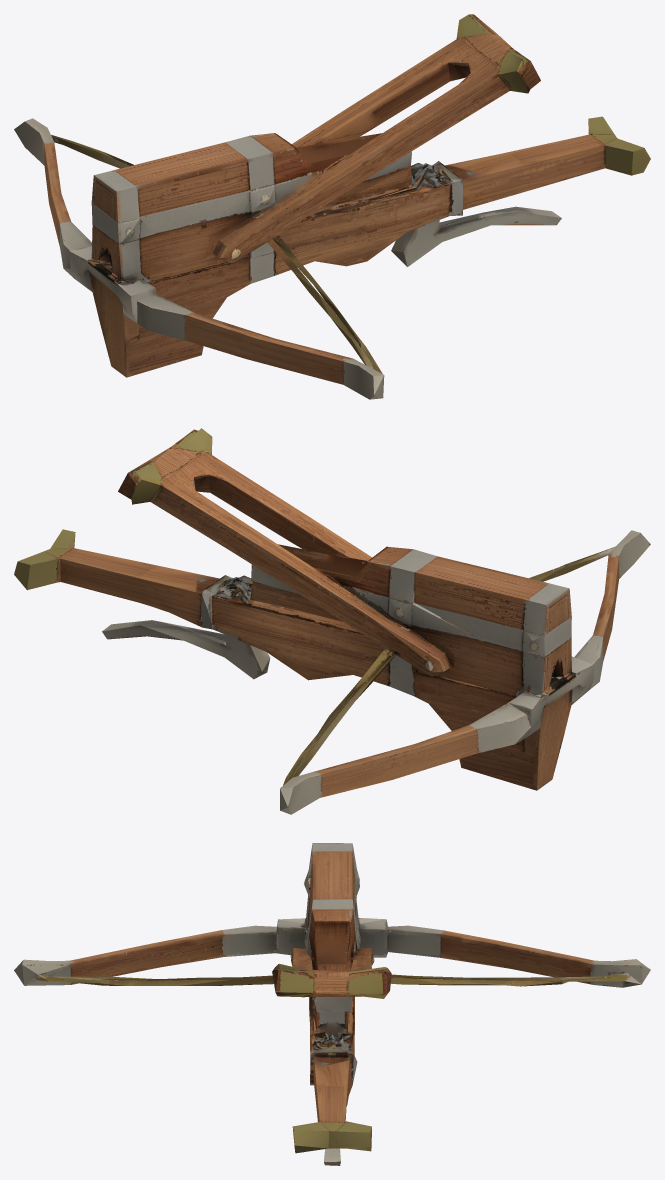
File: ballesta repeticion.glb
The picture shows the model from 3 angles, top to bottom: view 1: azimuth 30°, elevation 25°; view 2: azimuth 150°, elevation 25°; view 3: azimuth 270°, elevation 25°; orthographic projection. The views are drawn at different scales.
Parts seen in each view (by area): view 1: node_0 (1K); view 2: node_0 (1K); view 3: node_0 (1K).
Boxes of the visible parts, left/top/right/bottom form: node_0 (1K): left=14, top=14, right=650, bottom=399; node_0 (1K): left=14, top=428, right=650, bottom=814; node_0 (1K): left=14, top=843, right=650, bottom=1165.
Bounding box in the file's own units: 0.845 × 0.372 × 1.
Materials: 1 (1 with a texture image).
